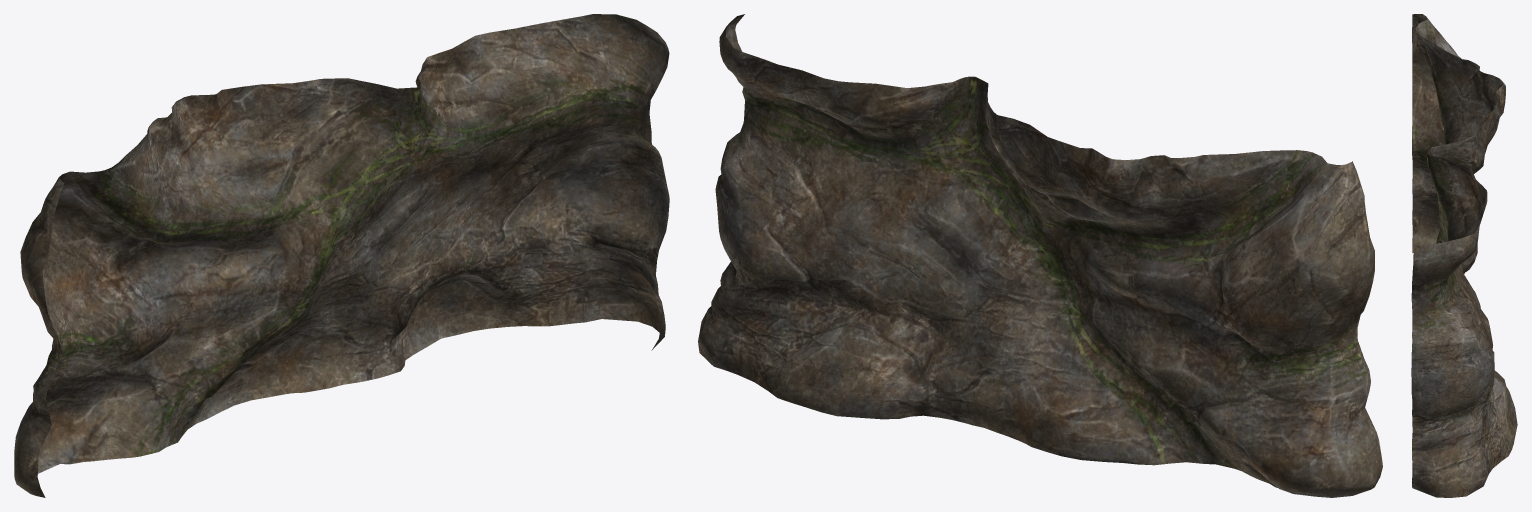
Rendered from cave_strip_veins_02.DAE.
The picture shows the model from 3 angles, left to right: view 1: azimuth 30°, elevation 25°; view 2: azimuth 150°, elevation 25°; view 3: azimuth 270°, elevation 25°; orthographic projection. The views are drawn at different scales.
Parts seen in each view (by area): view 1: cave_strip_veins_02; view 2: cave_strip_veins_02; view 3: cave_strip_veins_02.
Part boxes in pixels (left/top/right/bottom): cave_strip_veins_02: left=14, top=14, right=669, bottom=497; cave_strip_veins_02: left=698, top=14, right=1382, bottom=497; cave_strip_veins_02: left=1411, top=14, right=1517, bottom=497.
Bounding box in the file's own units: 1580 × 730 × 282.
